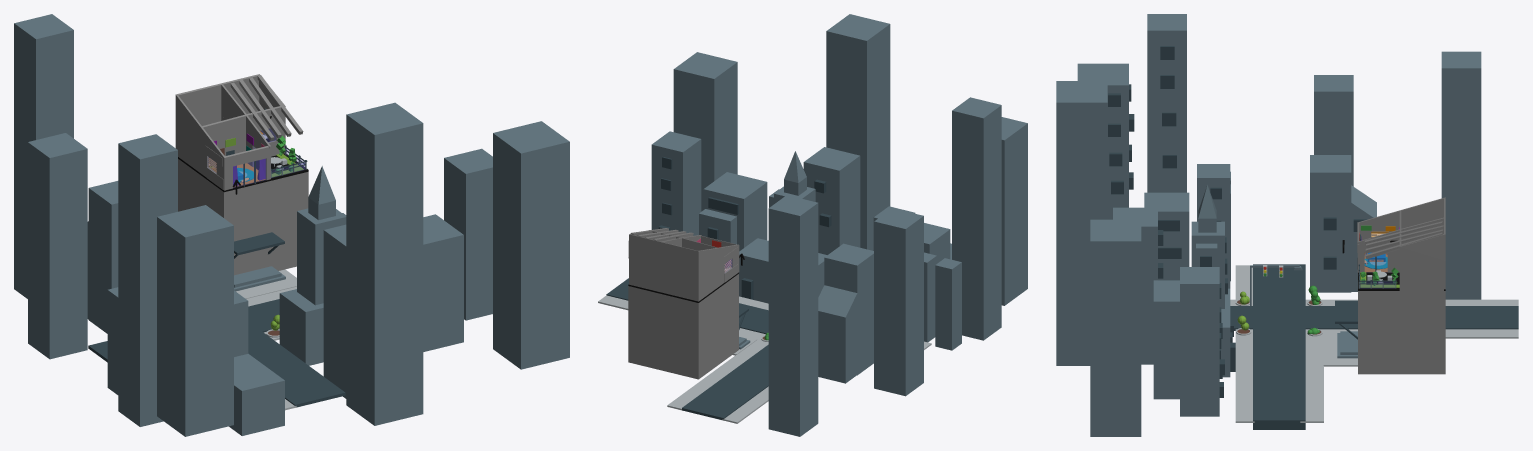
3 renders of one model, left to right at view 1: azimuth 30°, elevation 25°; view 2: azimuth 150°, elevation 25°; view 3: azimuth 270°, elevation 25°, orthographic. The views are drawn at different scales.
Visible parts, largest first — view 1: node_MeshObject1353400320-PolyPaper23, node_MeshObject-1225329664-PolyPaper11, node_MeshObject-1797408768-PolyPaper17, node_MeshObject1925479424-PolyGlass24; view 2: node_MeshObject1353400320-PolyPaper23, node_MeshObject-1225329664-PolyPaper11, node_MeshObject-1797408768-PolyPaper17; view 3: node_MeshObject1353400320-PolyPaper23, node_MeshObject-1225329664-PolyPaper11, node_MeshObject-1797408768-PolyPaper17, node_MeshObject1925479424-PolyGlass24.
Boxes of the visible parts, box(x1,y1,x2,y2) form: node_MeshObject1353400320-PolyPaper23: box(14, 14, 569, 436); node_MeshObject-1225329664-PolyPaper11: box(175, 74, 308, 194); node_MeshObject-1797408768-PolyPaper17: box(88, 143, 307, 333); node_MeshObject1925479424-PolyGlass24: box(208, 128, 305, 187); node_MeshObject1353400320-PolyPaper23: box(598, 14, 1027, 436); node_MeshObject-1225329664-PolyPaper11: box(628, 228, 744, 302); node_MeshObject-1797408768-PolyPaper17: box(658, 157, 873, 375); node_MeshObject1353400320-PolyPaper23: box(1056, 14, 1518, 436); node_MeshObject-1225329664-PolyPaper11: box(1342, 197, 1445, 373); node_MeshObject-1797408768-PolyPaper17: box(1108, 46, 1388, 397); node_MeshObject1925479424-PolyGlass24: box(1360, 253, 1395, 288).
Bounding box in the file's own units: 7.02 × 4.97 × 7.79.
